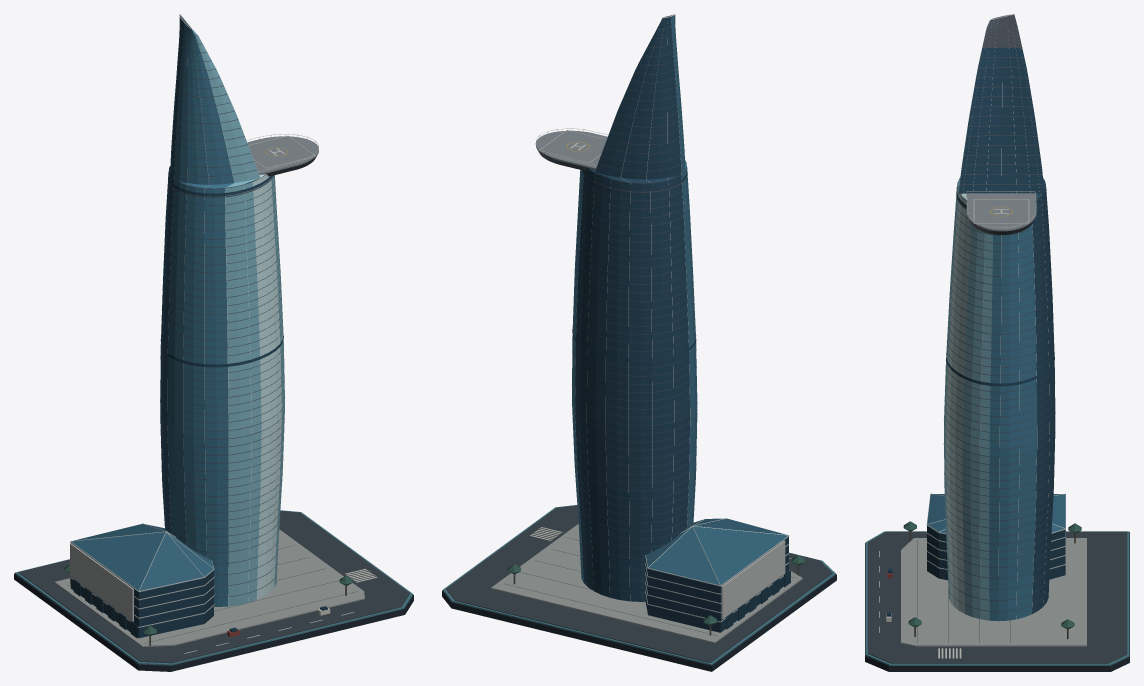
The model's file is mysterios9.glb.
3 views of the same model, side by side, from view 1: azimuth 30°, elevation 25°; view 2: azimuth 150°, elevation 25°; view 3: azimuth 270°, elevation 25° (orthographic).
Visible parts, largest first — view 1: TOWER_MAIN_BODY, BASE, RETAIL_PODIUM, STREETS_AND_PLAZA, HELIPAD_DECK, TOWER_GLASS_FACADE, FLOOR_BANDS; view 2: TOWER_MAIN_BODY, BASE, RETAIL_PODIUM, STREETS_AND_PLAZA, HELIPAD_DECK, TOWER_GLASS_FACADE, FLOOR_BANDS; view 3: TOWER_MAIN_BODY, BASE, STREETS_AND_PLAZA, RETAIL_PODIUM, HELIPAD_DECK, TOWER_GLASS_FACADE, TREES_AND_VEHICLES, FLOOR_BANDS.
Boxes of the visible parts, x1,y1,x2,y2 form: TOWER_MAIN_BODY: [160, 15, 284, 606]; BASE: [14, 510, 413, 671]; RETAIL_PODIUM: [70, 523, 214, 638]; STREETS_AND_PLAZA: [54, 529, 377, 653]; HELIPAD_DECK: [247, 135, 318, 176]; TOWER_GLASS_FACADE: [160, 26, 285, 606]; FLOOR_BANDS: [160, 173, 283, 367]; TOWER_MAIN_BODY: [572, 14, 697, 601]; BASE: [442, 505, 836, 671]; RETAIL_PODIUM: [645, 518, 790, 632]; STREETS_AND_PLAZA: [491, 524, 802, 643]; HELIPAD_DECK: [535, 130, 607, 170]; TOWER_GLASS_FACADE: [571, 21, 697, 601]; FLOOR_BANDS: [572, 167, 696, 362]; TOWER_MAIN_BODY: [944, 14, 1055, 621]; BASE: [865, 531, 1129, 671]; STREETS_AND_PLAZA: [879, 538, 1086, 658]; RETAIL_PODIUM: [926, 493, 1065, 580]; HELIPAD_DECK: [966, 193, 1036, 234]; TOWER_GLASS_FACADE: [943, 21, 1055, 618]; TREES_AND_VEHICLES: [886, 521, 1081, 638]; FLOOR_BANDS: [946, 187, 1054, 386].
Size of the model in its own units: 13.3 by 26.61 by 11.1.
